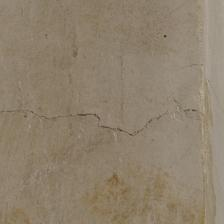Crack: (2, 104, 204, 140)
